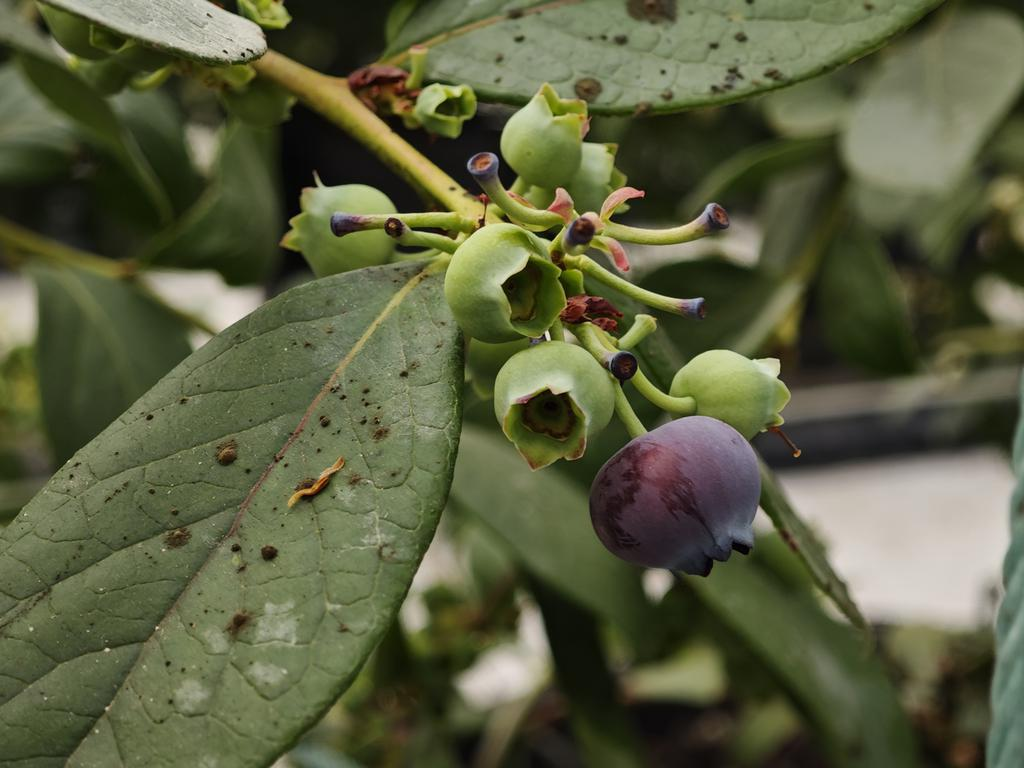Semi-RipeBlueBerry: (585, 413, 764, 579)
UnripeBlueBerry: (491, 341, 616, 469), (445, 221, 570, 343)
